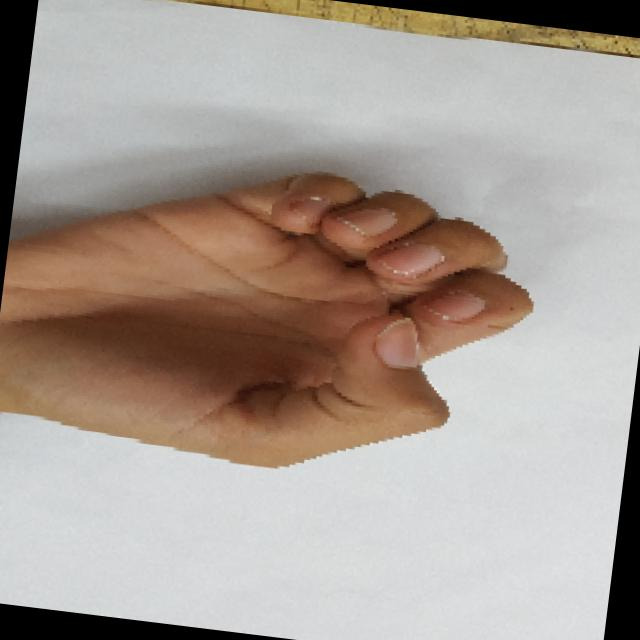Nail: (380, 241, 443, 277), (373, 317, 418, 367), (425, 288, 483, 321), (336, 207, 394, 235), (299, 195, 325, 222)
